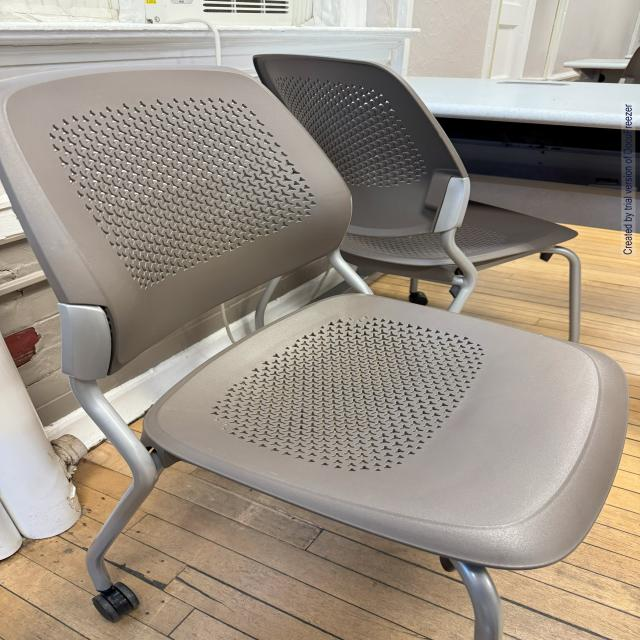chair: (4, 56, 632, 640)
